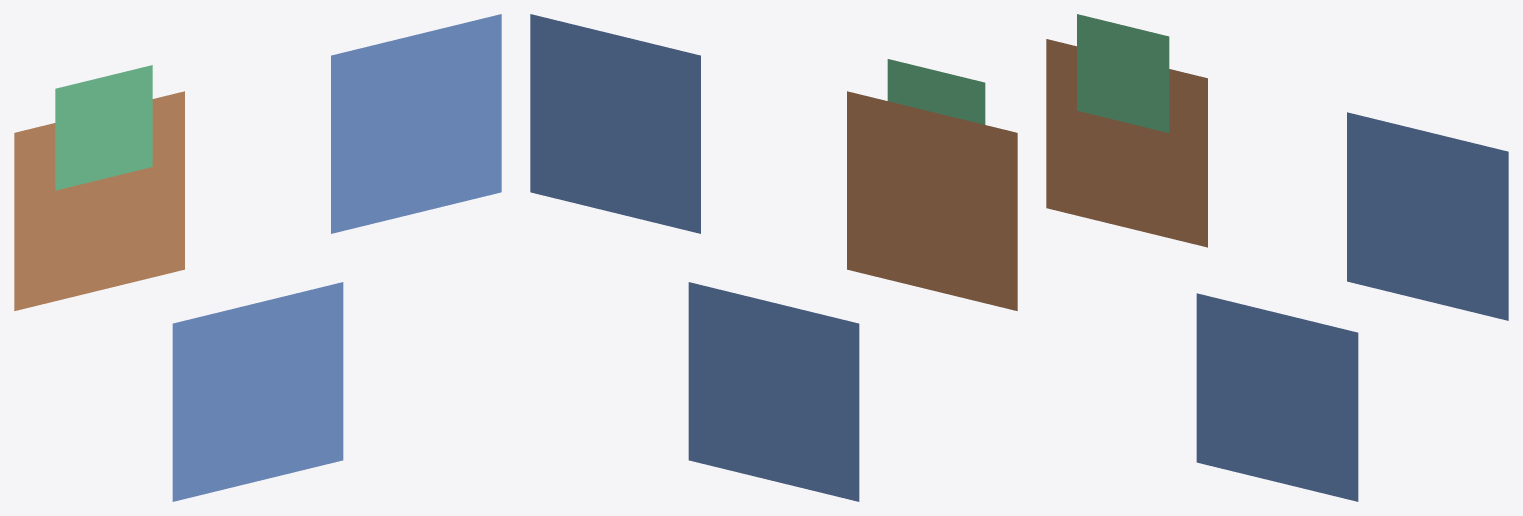
The model's file is multi_scene.gltf.
3 renders of one model, left to right at view 1: azimuth 30°, elevation 25°; view 2: azimuth 150°, elevation 25°; view 3: azimuth 330°, elevation 25°, orthographic. The views are drawn at different scales.
Visible parts, largest first — view 1: LeftMultiPrimitive, BottomBlue, RightBlue; view 2: LeftMultiPrimitive, BottomBlue, RightBlue; view 3: LeftMultiPrimitive, BottomBlue, RightBlue.
Boxes of the visible parts, x1,y1,x2,y2 form: LeftMultiPrimitive: [14, 65, 184, 310]; BottomBlue: [172, 282, 343, 501]; RightBlue: [331, 14, 501, 233]; LeftMultiPrimitive: [847, 59, 1017, 310]; BottomBlue: [688, 282, 859, 501]; RightBlue: [530, 14, 700, 233]; LeftMultiPrimitive: [1046, 14, 1207, 247]; BottomBlue: [1196, 293, 1358, 501]; RightBlue: [1347, 112, 1508, 320].
Size of the model in its own units: 2 by 1.75 by 0.03.
